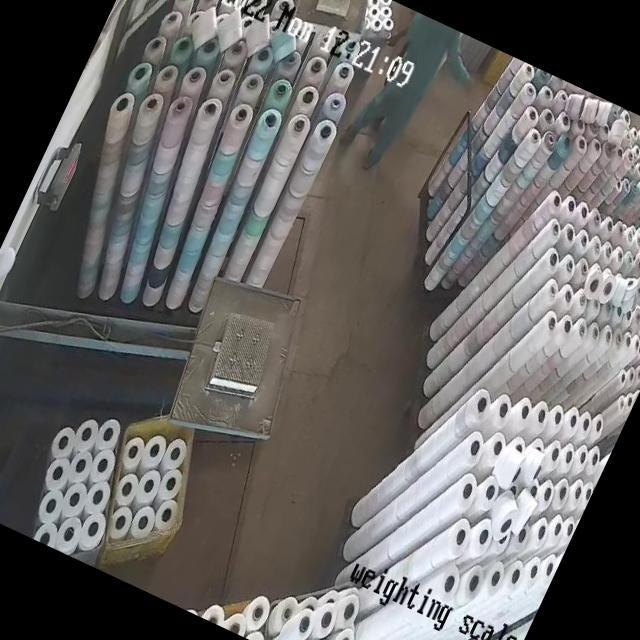person: (346, 16, 444, 176)
